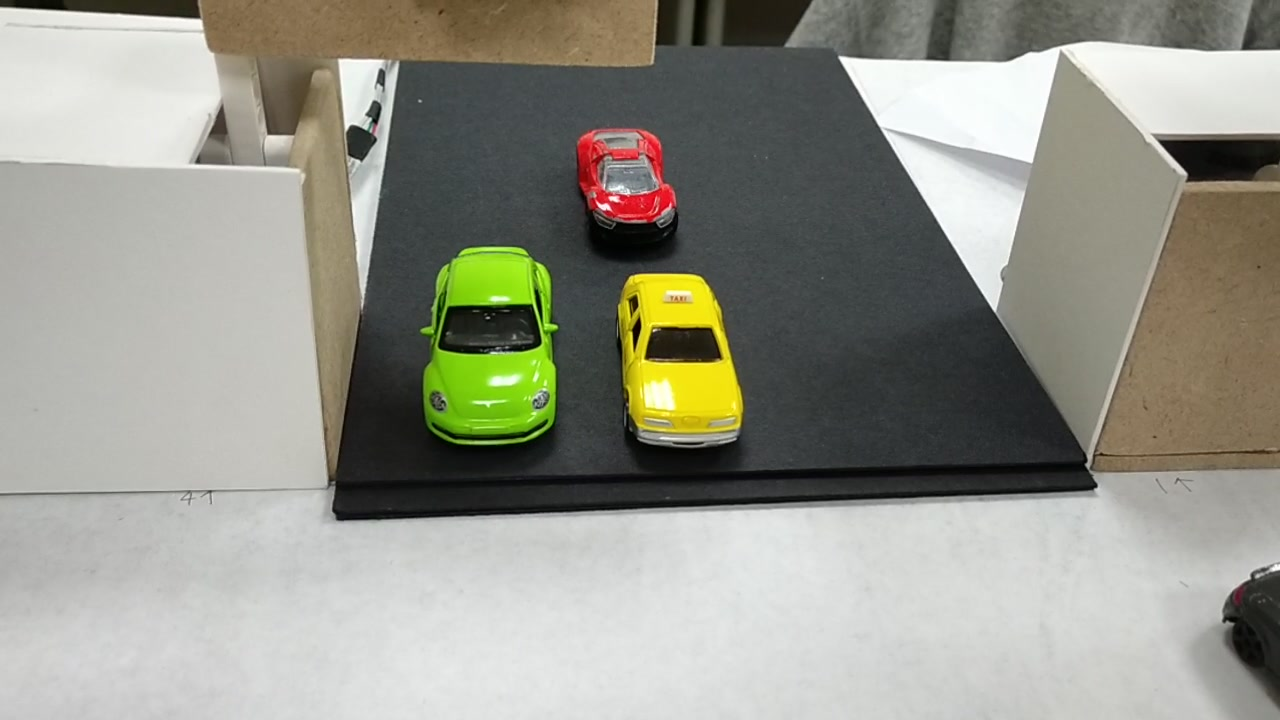car: (428, 255, 555, 443), (612, 274, 744, 454), (587, 122, 668, 238)
